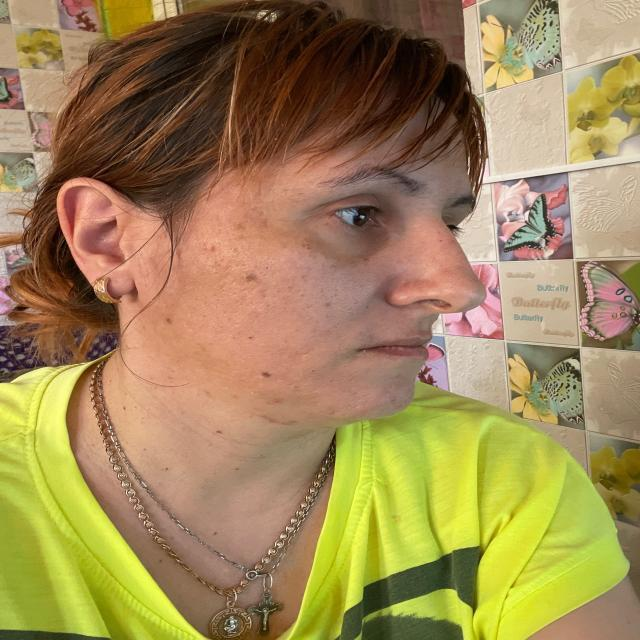Acne: (248, 362, 304, 396), (232, 268, 270, 306), (201, 222, 238, 255), (434, 263, 478, 284)
